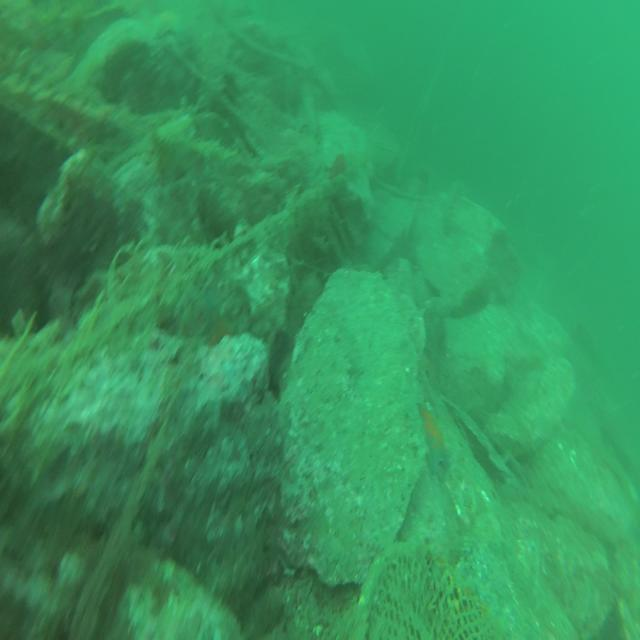starfish: (418, 396, 452, 480), (198, 286, 238, 341)
